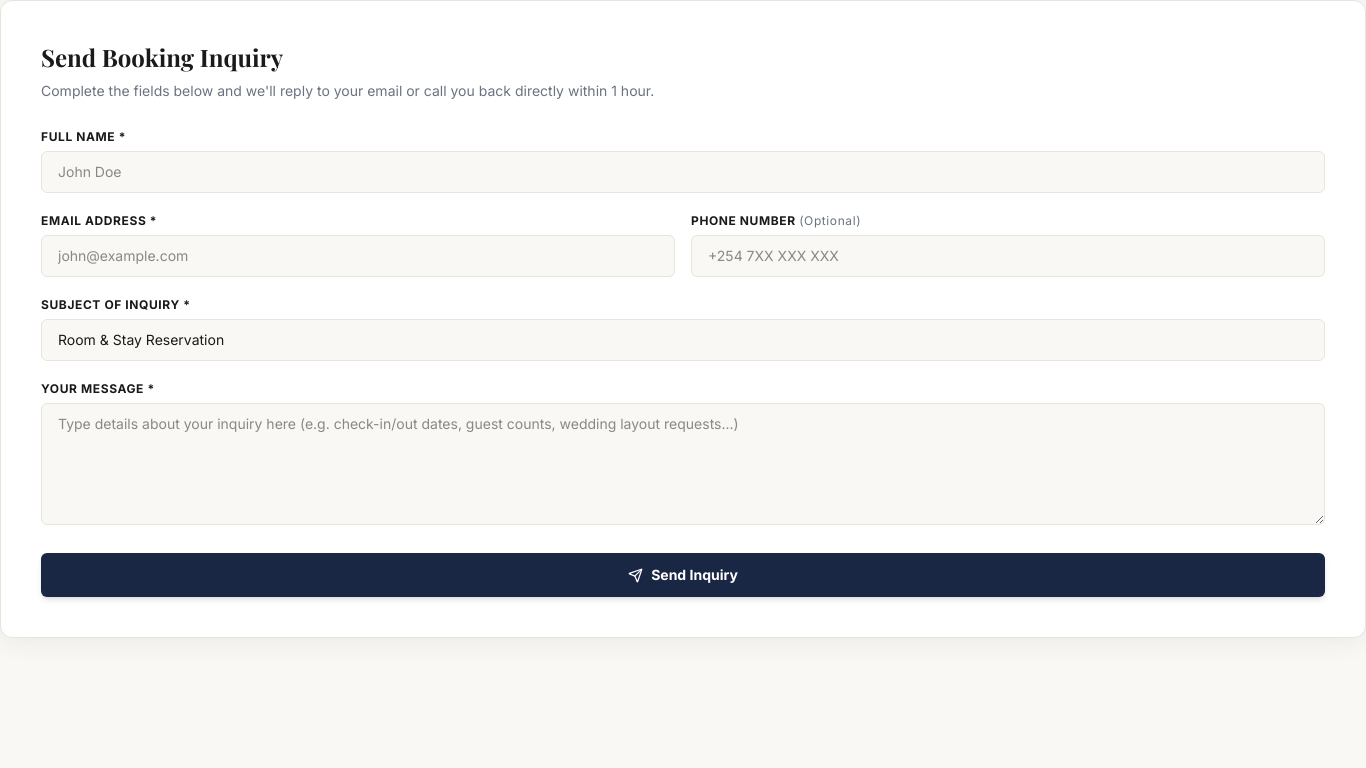
Scenario: ContactForm › shows invalid email error when email format is wrong
Type "Jane Doe" into the field labelled "Full Name *" at (683, 172), box [41,151,1325,193]
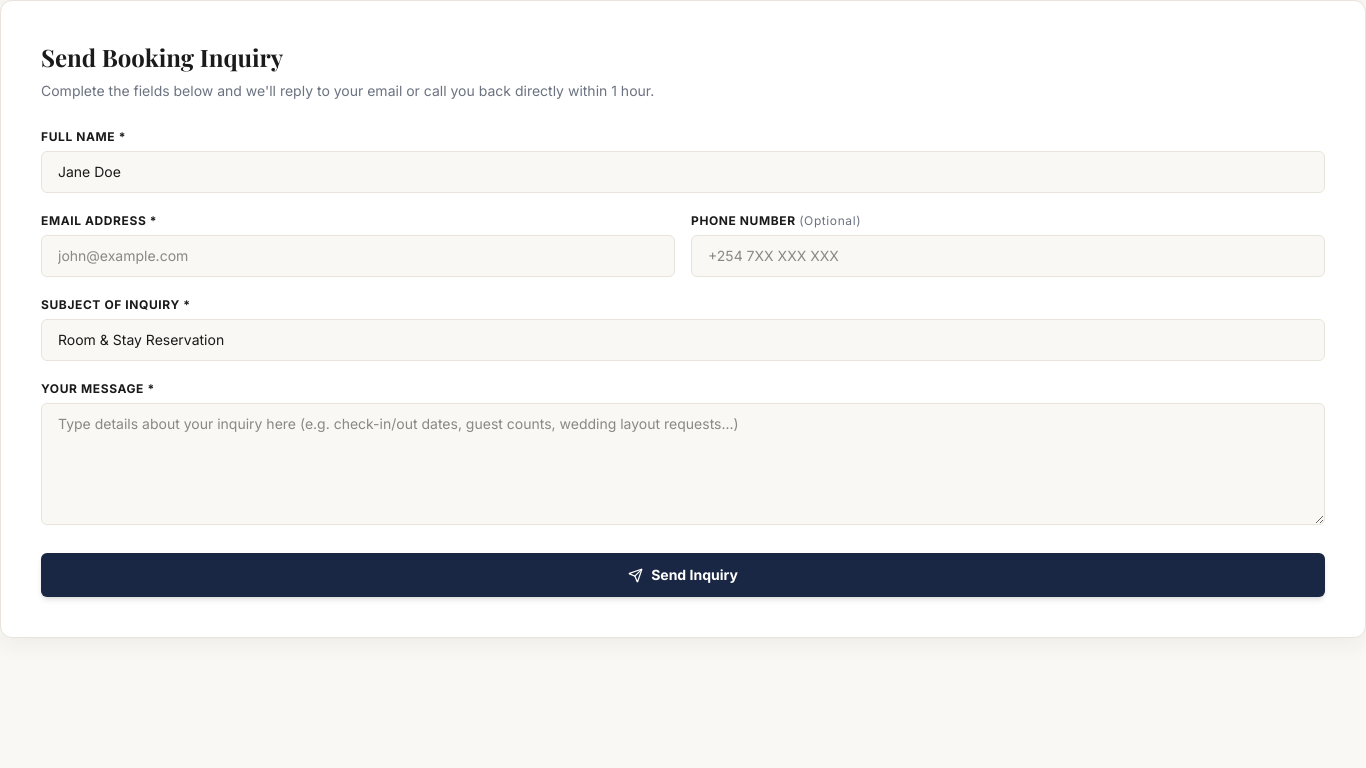
Type "not-an-email" into the field labelled "Email Address *" at (358, 256), box [41,235,675,277]
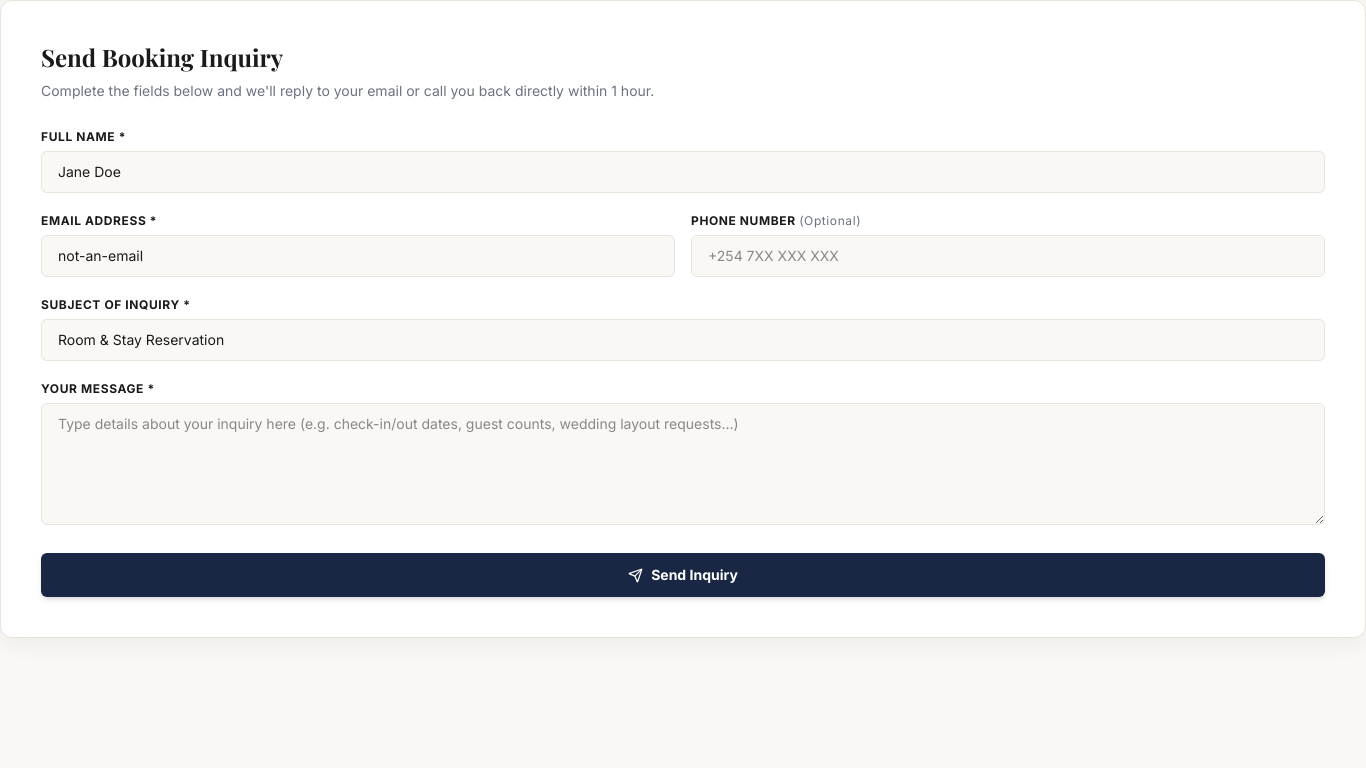
Replace the text in the text box labelled "Your Message *" with "This is a valid message." at (683, 464), box [41,403,1325,525]
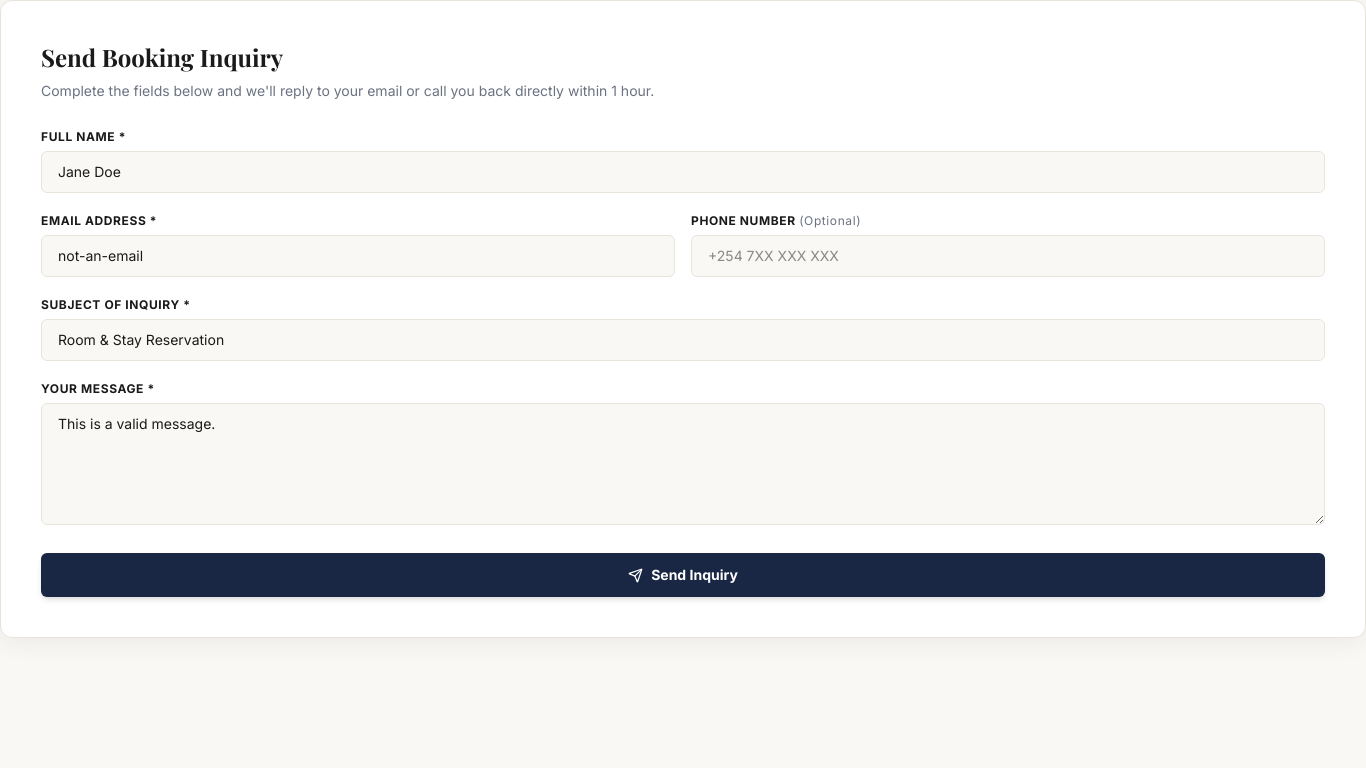
Submit the form
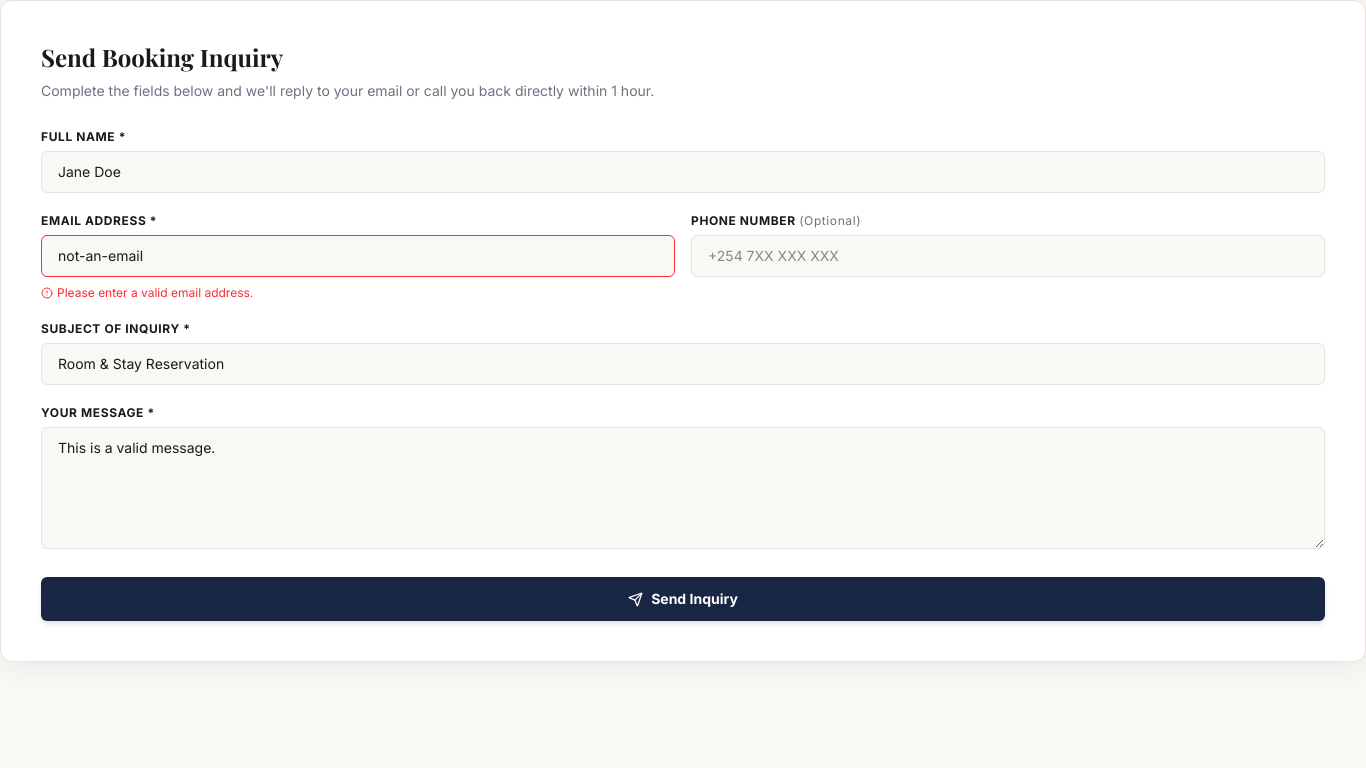
Now the text "Please enter a valid email address." is shown, box [41,285,253,300]
